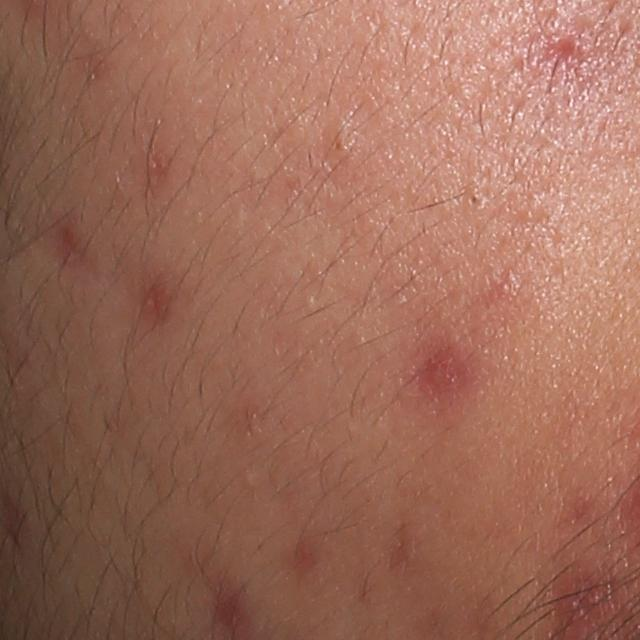comedo: (327, 125, 355, 155), (462, 187, 484, 211)
